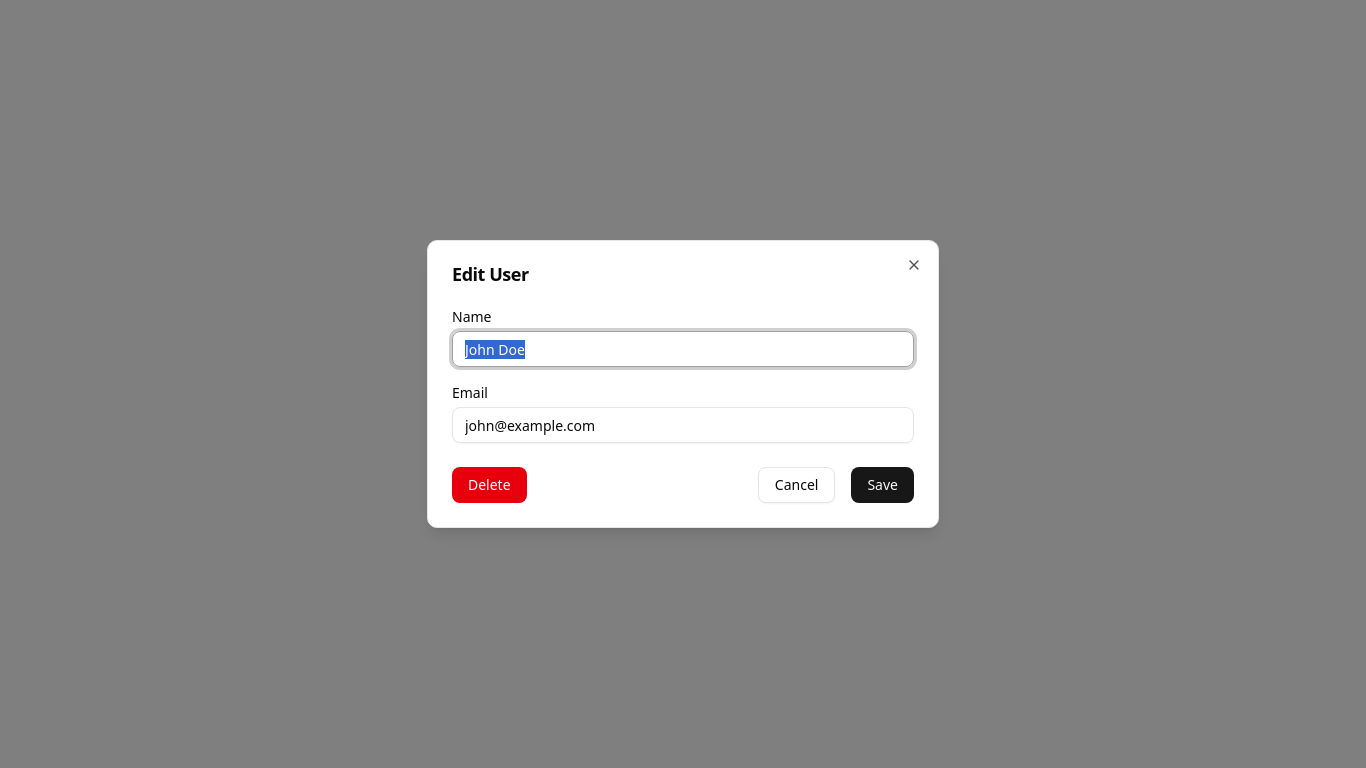
Test case: US3: EditUserDialog コンポーネント › バリデーション › メールが無効な形式の場合にエラーが表示されること
Replace the text in the field labelled "Email" with "invalid-email" at (683,425), box x1=452 y1=407 x2=914 y2=443
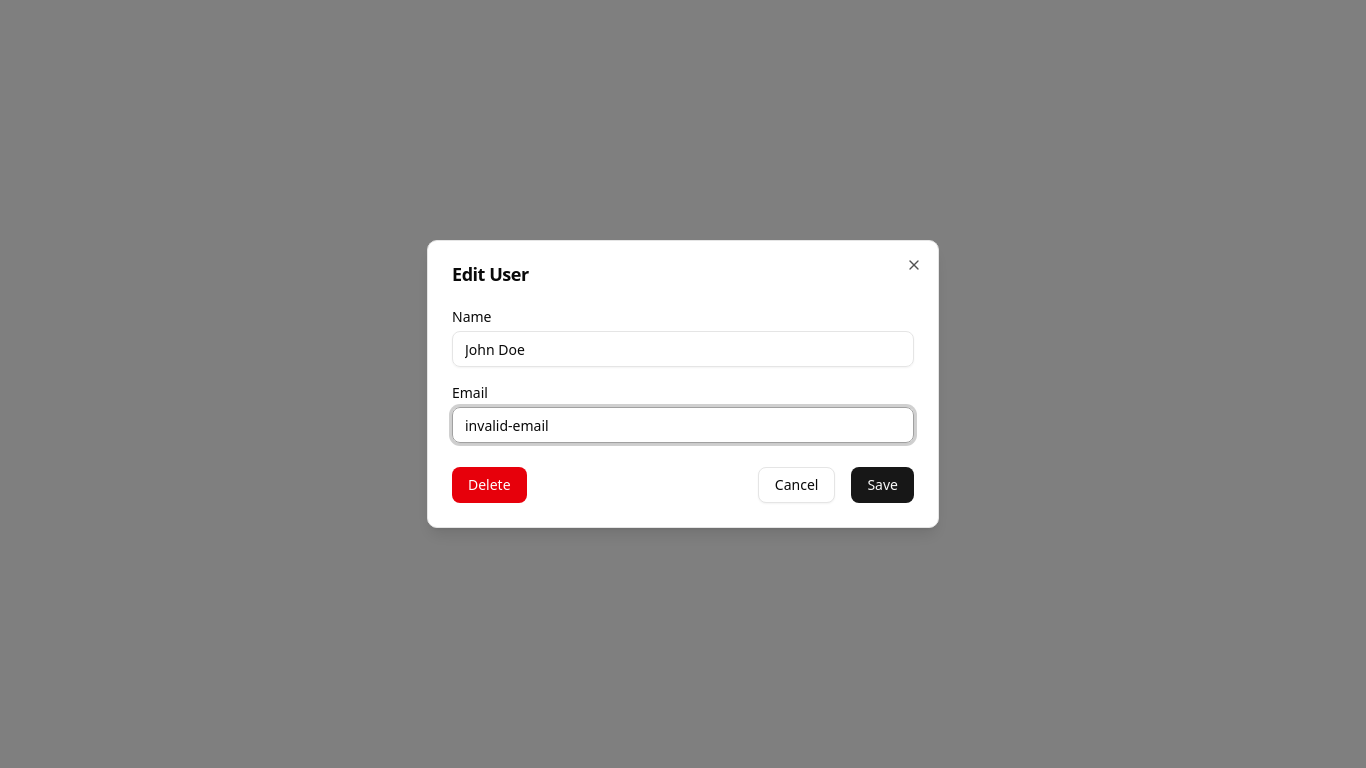
Click the button "Save".
click(883, 485)  # box x1=851 y1=467 x2=914 y2=503
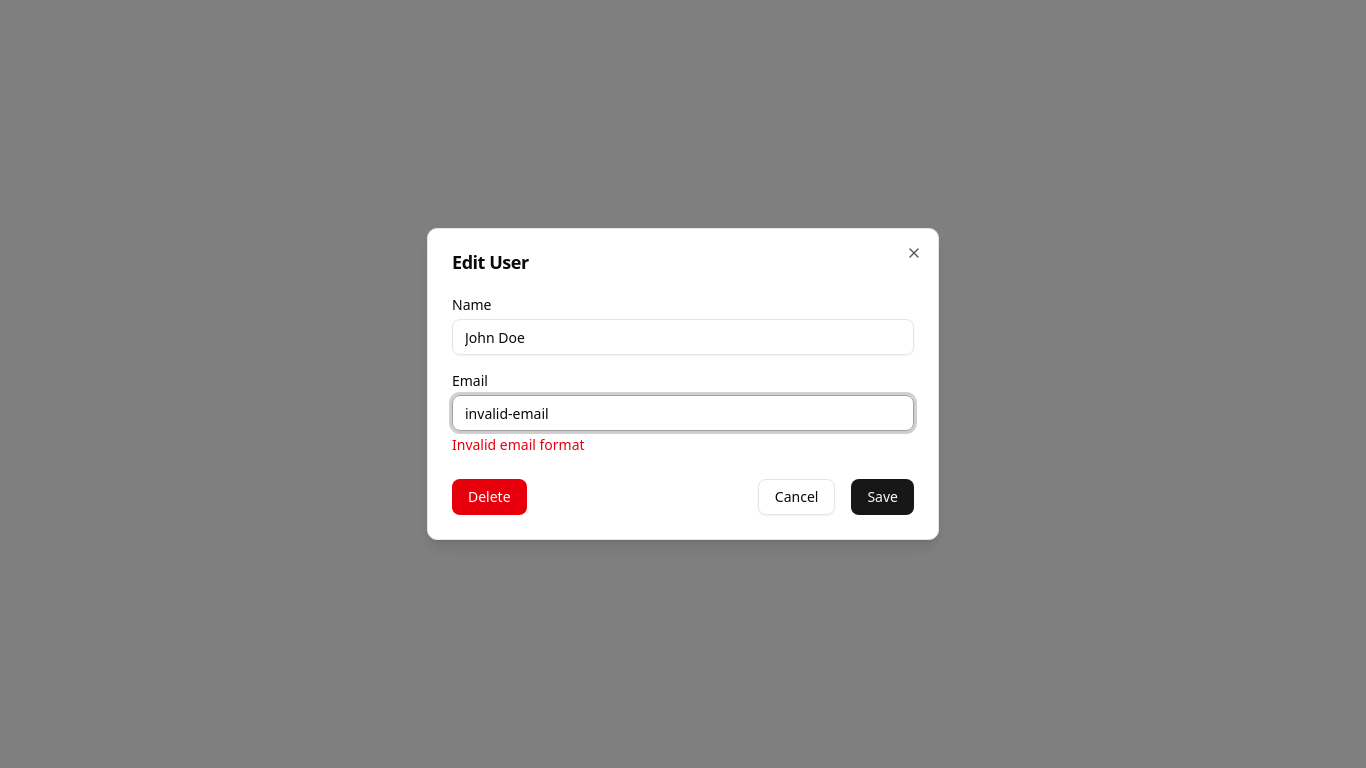
Result: the text "Invalid email format" is shown at x1=452 y1=435 x2=585 y2=454
